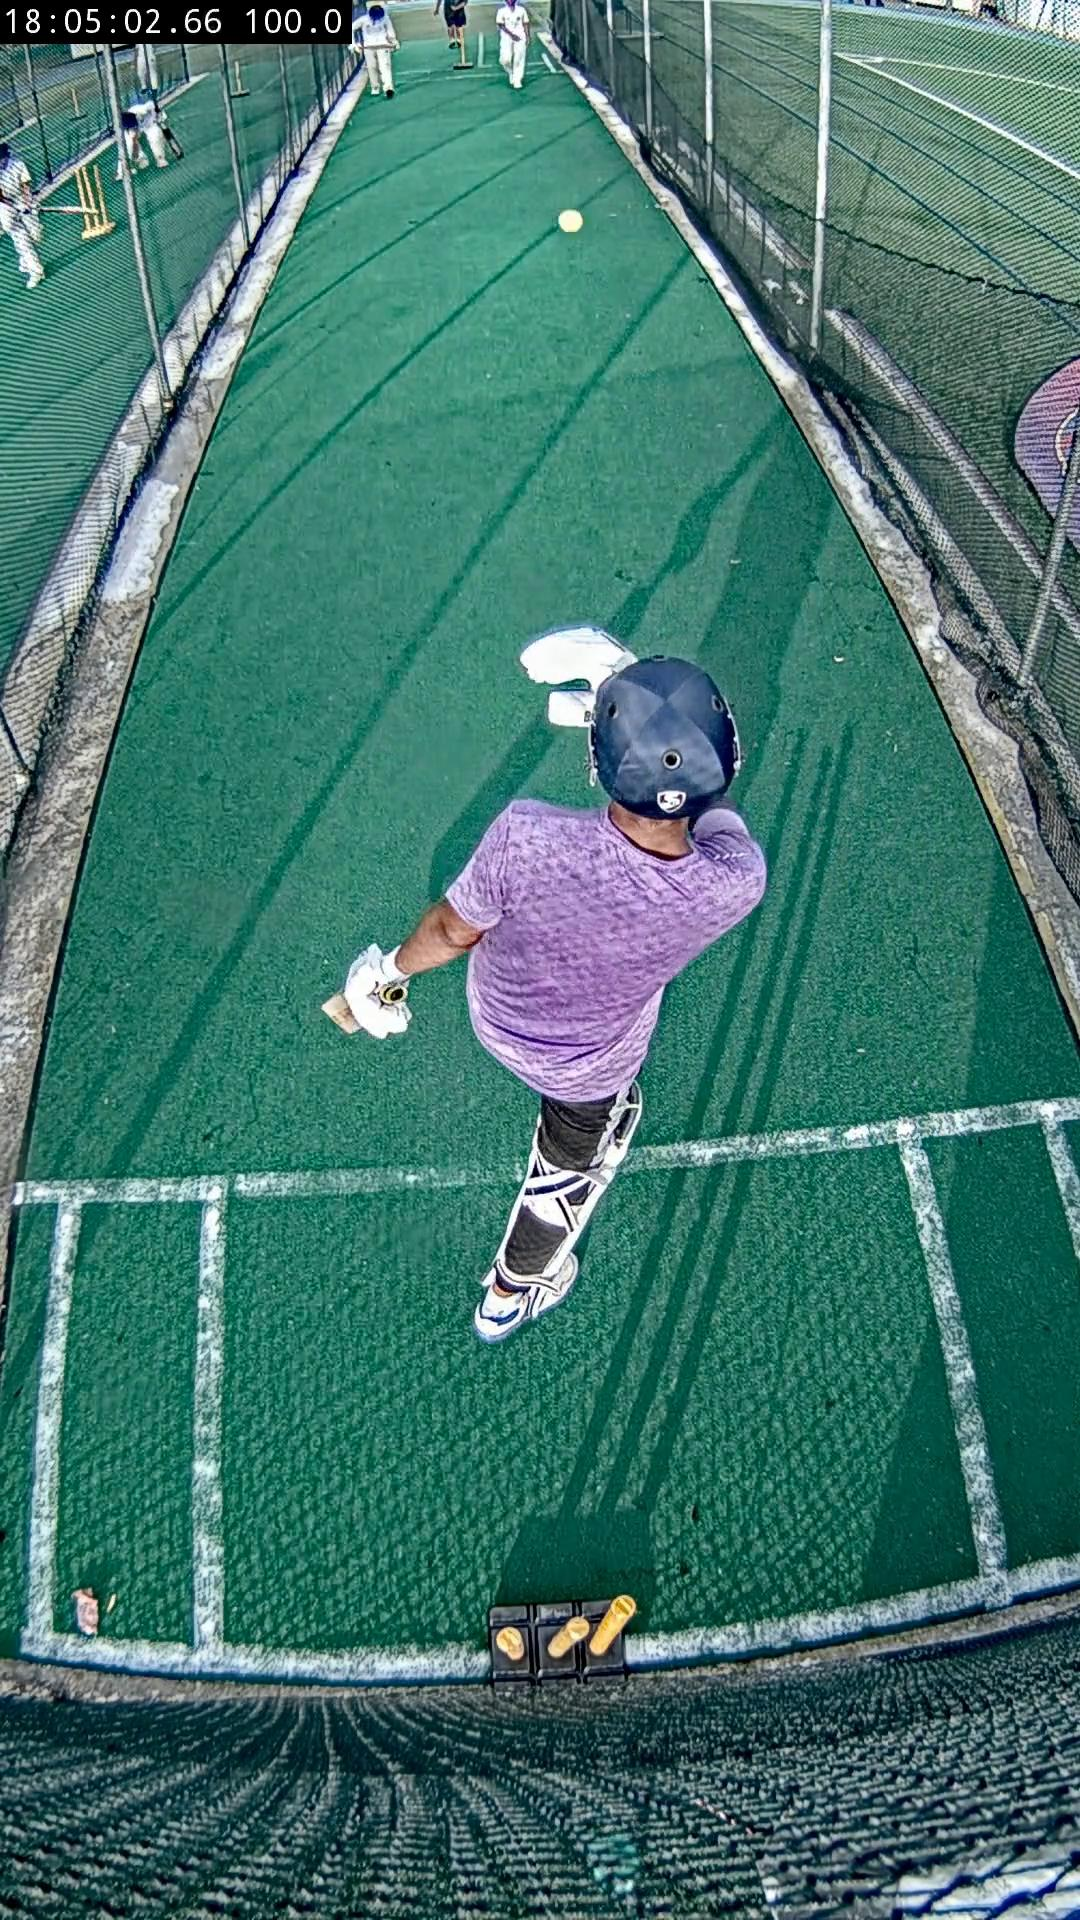ball: (559, 210, 585, 232)
gloves: (521, 626, 637, 728), (345, 945, 413, 1039)
helmet: (588, 657, 742, 818), (521, 630, 585, 679)
stumps: (488, 1594, 637, 1684)
